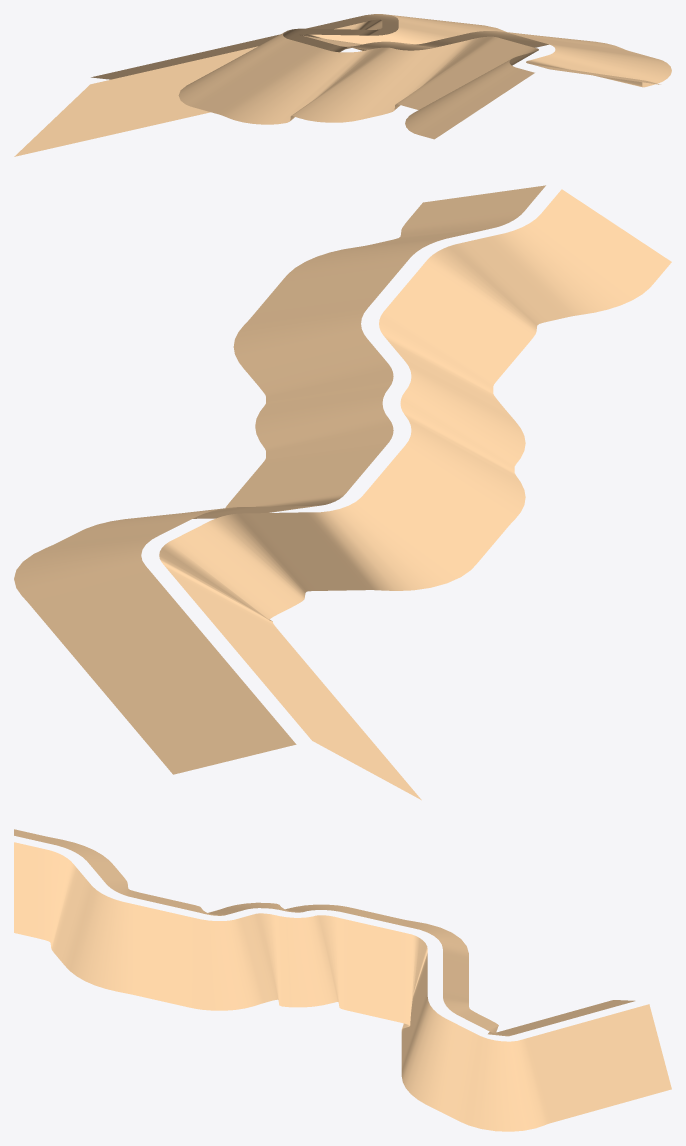
File: Ground.fbx
The picture shows the model from 3 angles, top to bottom: view 1: azimuth 30°, elevation 25°; view 2: azimuth 150°, elevation 25°; view 3: azimuth 270°, elevation 25°; orthographic projection. The views are drawn at different scales.
Parts seen in each view (by area): view 1: polySurface7; view 2: polySurface7; view 3: polySurface7.
Boxes of the visible parts, x1,y1,x2,y2 form: polySurface7: (14, 14, 671, 156); polySurface7: (14, 185, 671, 800); polySurface7: (14, 829, 671, 1131).
Bounding box in the file's own units: 302 × 185 × 435.
